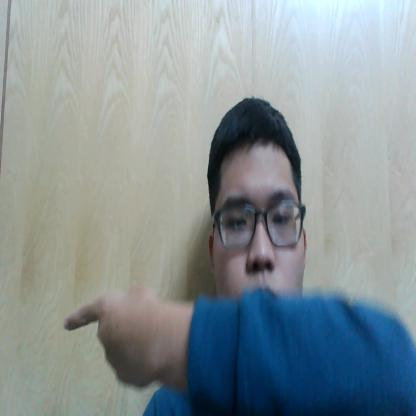right: (56, 279, 178, 388)
